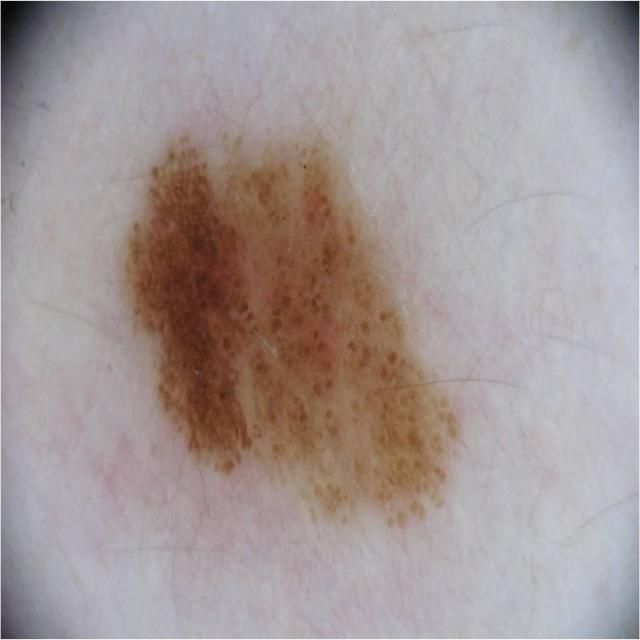Benign: (117, 112, 464, 544)
